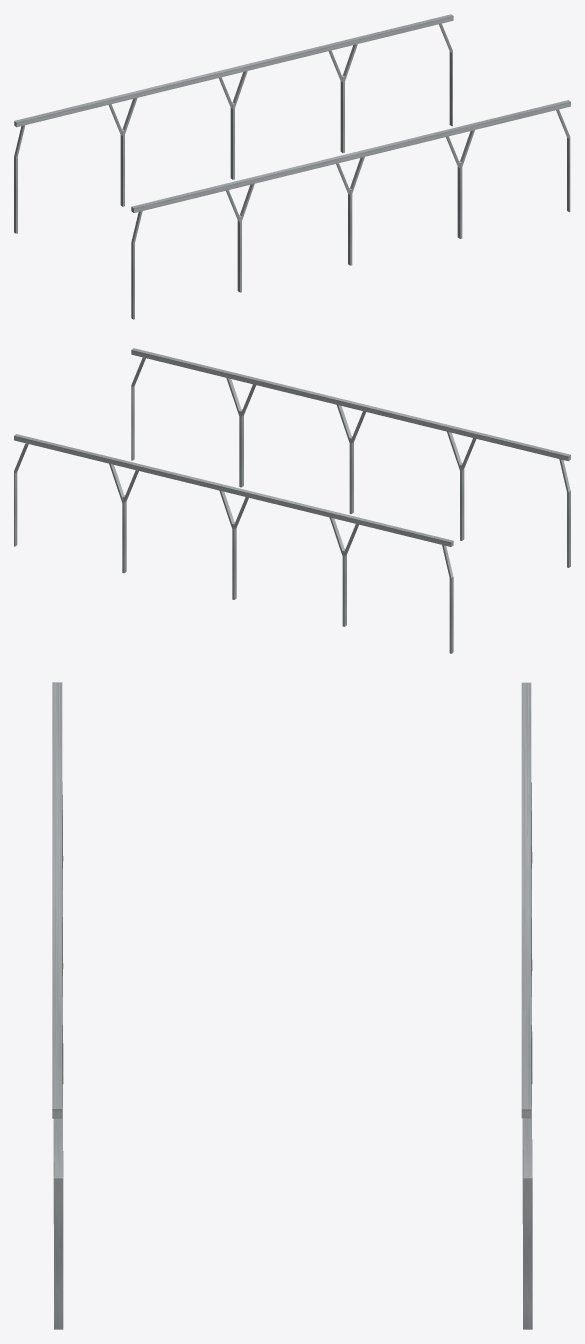
Rendered from cenario_estrutura_vigas.gltf.
The picture shows the model from 3 angles, top to bottom: view 1: azimuth 30°, elevation 25°; view 2: azimuth 150°, elevation 25°; view 3: azimuth 270°, elevation 25°; orthographic projection. The views are drawn at different scales.
Visible parts, largest first — view 1: Cube, Cube.027, Cube.004; view 2: Cube, Cube.027; view 3: Cube, Cube.027, Cube.022, Cube.005.
Part boxes in pixels (x1,y1,x2,y2): Cube: [131, 100, 570, 212]; Cube.027: [14, 14, 453, 127]; Cube.004: [457, 161, 462, 238]; Cube: [131, 348, 570, 461]; Cube.027: [14, 434, 453, 546]; Cube: [52, 682, 62, 1118]; Cube.027: [521, 682, 531, 1118]; Cube.022: [523, 1177, 532, 1329]; Cube.005: [54, 1177, 63, 1329].
Size of the model in its own units: 21.55 by 5.25 by 10.24.
Materials: 28 (28 with a texture image).
